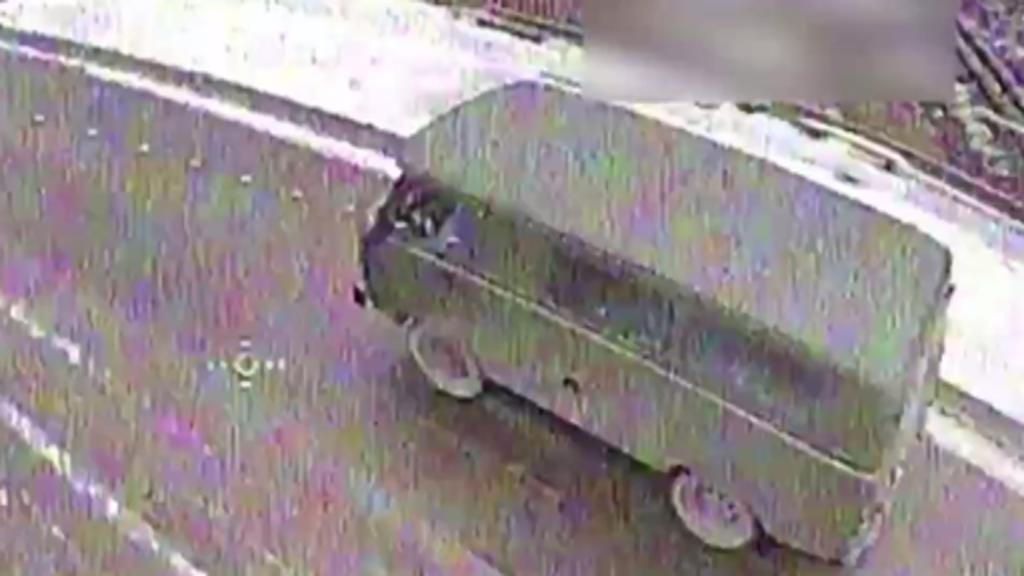CAR: (342, 70, 966, 568)
